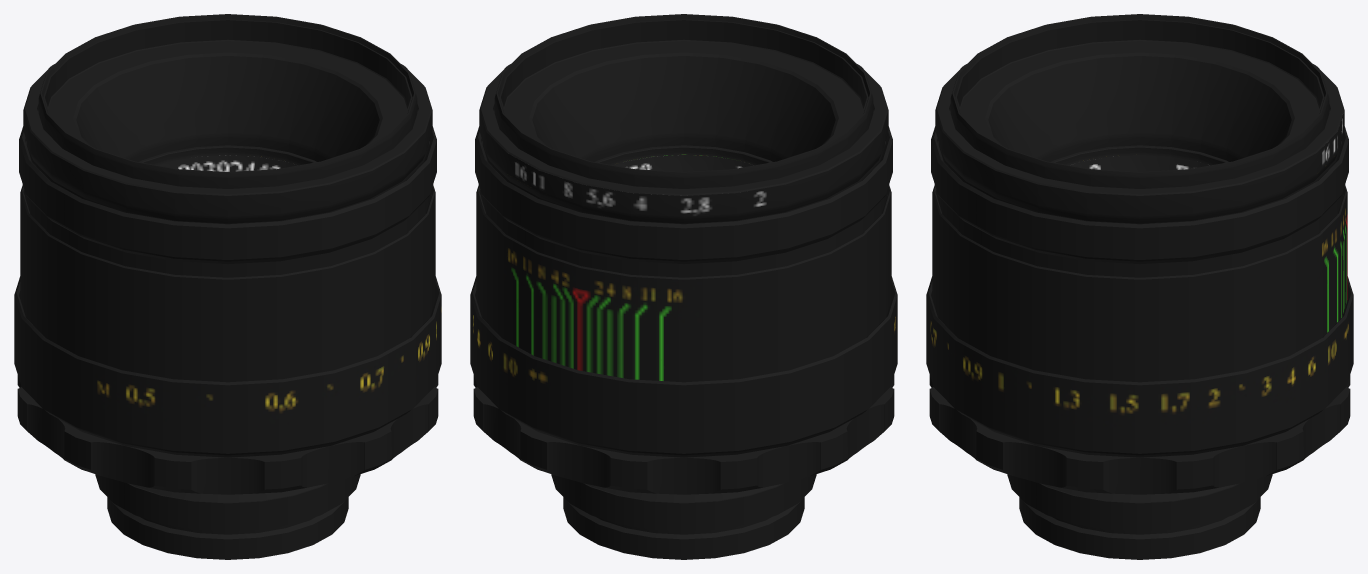
The model's file is Gelios_high.obj.
3 views of the same model, side by side, from view 1: azimuth 30°, elevation 25°; view 2: azimuth 150°, elevation 25°; view 3: azimuth 270°, elevation 25° (orthographic).
Visible parts, largest first — view 1: metal_head, pimps_2, metal_1, swirl; view 2: metal_head, metal_1, title_dof, pimps, title_diafragm; view 3: metal_head, pimps, title_lenght, title_dof, metal_1, swirl.
Boxes of the visible parts, x1,y1,x2,y2 form: metal_head: (14,14,441,559); pimps_2: (228,56,267,134); metal_1: (228,63,385,216); swirl: (357,43,386,78); metal_head: (470,14,897,559); metal_1: (508,79,787,379); title_dof: (483,219,504,338); pimps: (547,169,828,483); title_diafragm: (507,151,539,190); metal_head: (926,14,1353,559); pimps: (1037,183,1139,530); title_lenght: (1084,382,1139,453); title_dof: (1286,240,1319,356); metal_1: (944,66,1188,461); swirl: (1108,537,1139,559).
Bounding box in the file's own units: 0.0565 × 0.0606 × 0.0565.
